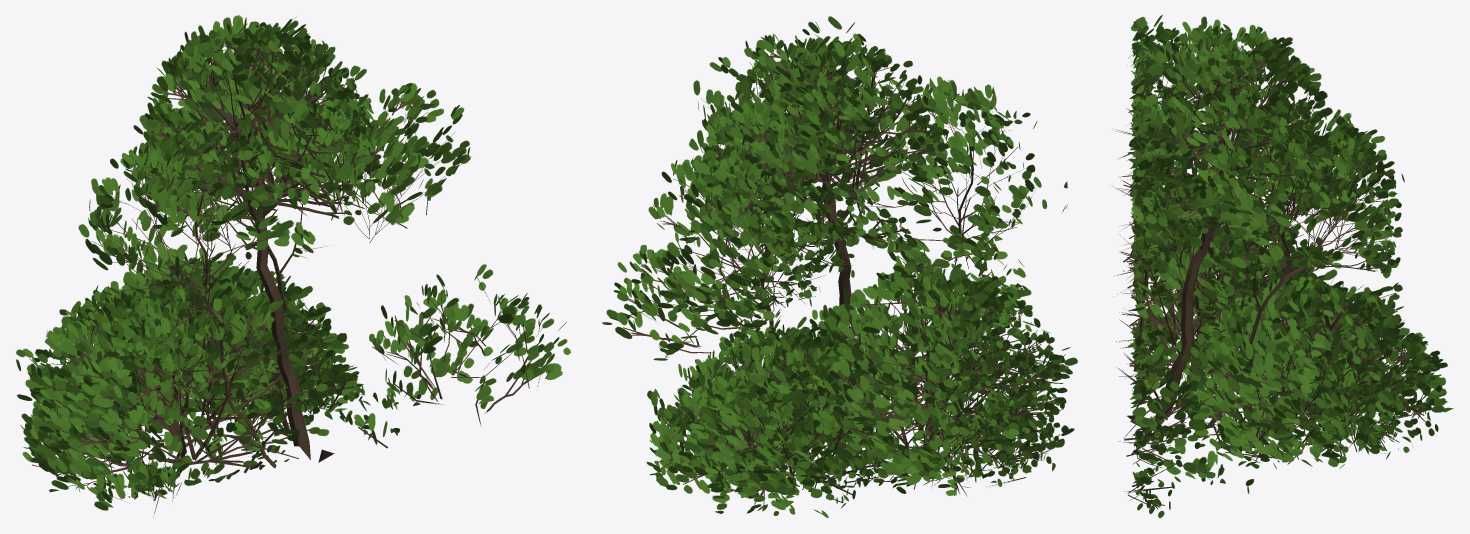
3 views of the same model, side by side, from view 1: azimuth 30°, elevation 25°; view 2: azimuth 150°, elevation 25°; view 3: azimuth 270°, elevation 25° (orthographic). The views are drawn at different scales.
Visible parts, largest first — view 1: oak 01.001_trunk_Mat.001_0.290; view 2: oak 01.001_trunk_Mat.001_0.290; view 3: oak 01.001_trunk_Mat.001_0.290.
Boxes of the visible parts, x1,y1,x2,y2 form: oak 01.001_trunk_Mat.001_0.290: (16, 15, 570, 517); oak 01.001_trunk_Mat.001_0.290: (602, 16, 1077, 517); oak 01.001_trunk_Mat.001_0.290: (1114, 15, 1453, 518).
Bounding box in the file's own units: 5.01 × 4.18 × 3.19.
2 materials, 1 textured.
